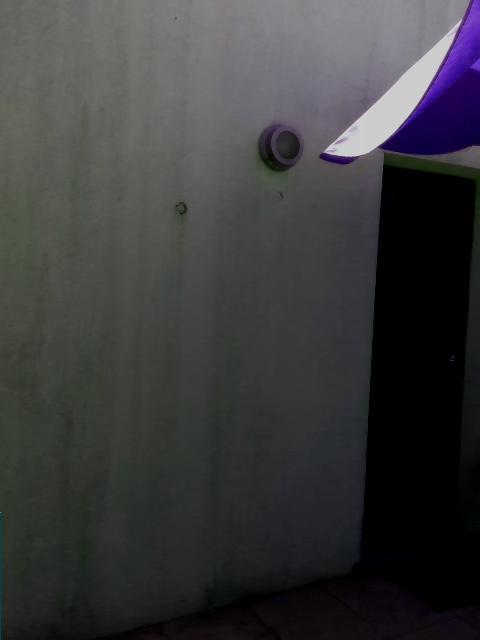closed_door: (362, 161, 471, 544)
